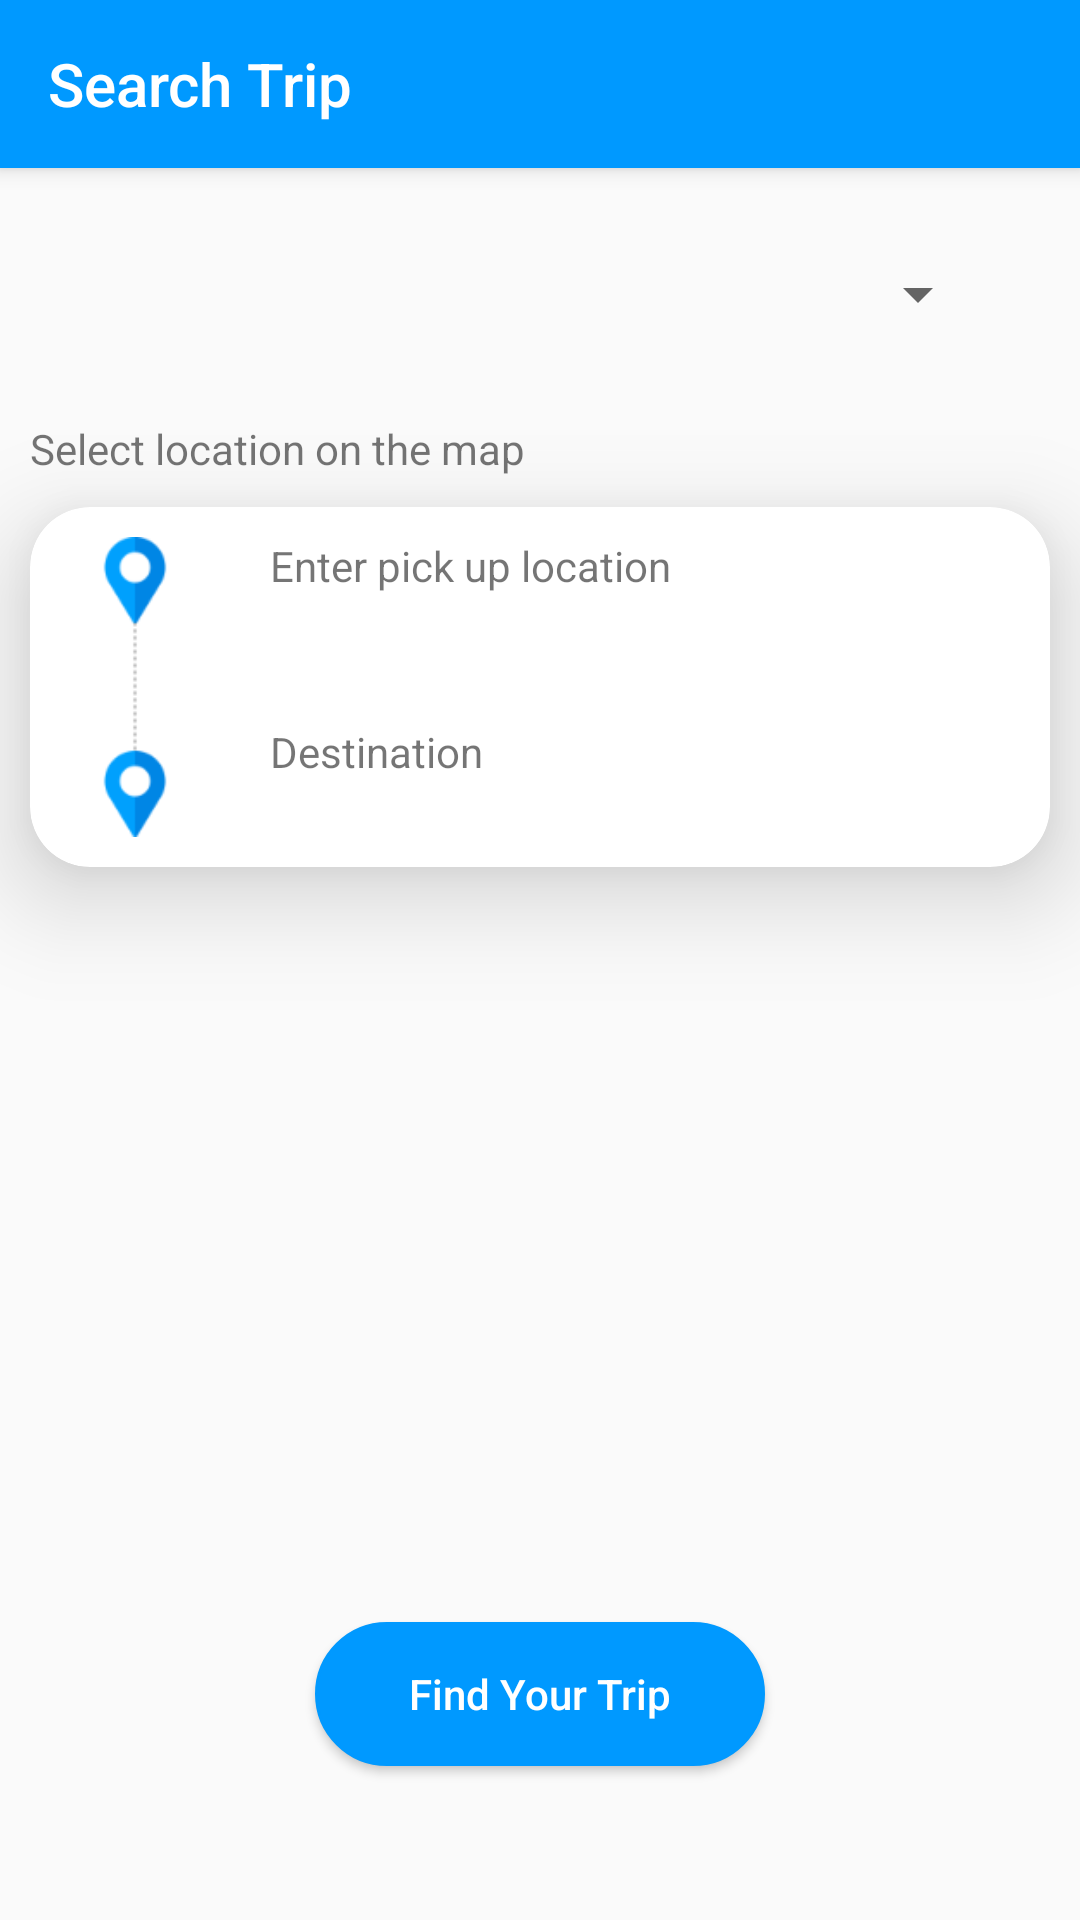

Point at icon controls on the screen. Image size 1080px x 1920px, points as point (x, y).
route path: point (135, 687)
